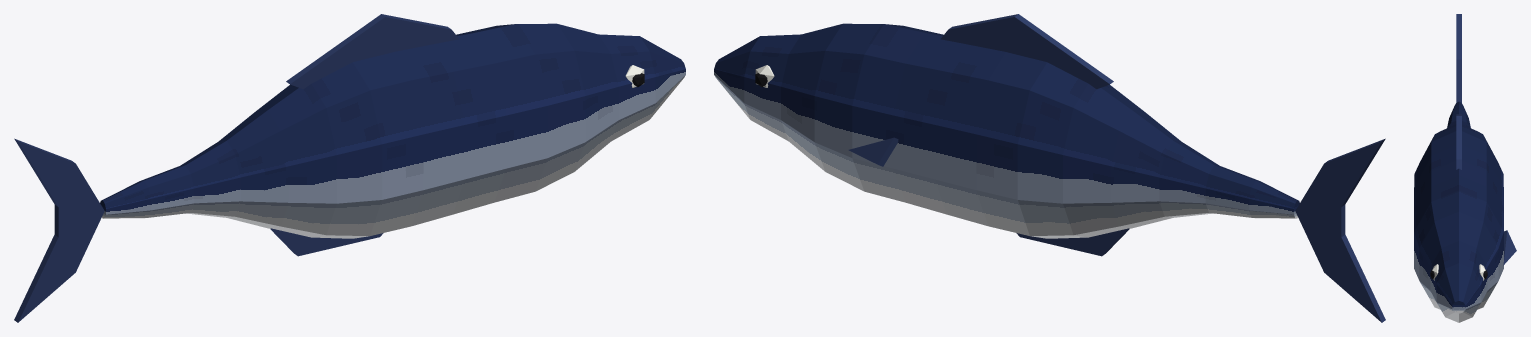
File: southern_bluefin_tuna.glb
3 renders of one model, left to right at view 1: azimuth 30°, elevation 25°; view 2: azimuth 150°, elevation 25°; view 3: azimuth 270°, elevation 25°, orthographic. The views are drawn at different scales.
Visible parts, largest first — view 1: fish_southern_bluefin_tuna; view 2: fish_southern_bluefin_tuna; view 3: fish_southern_bluefin_tuna.
Part boxes in pixels (left/top/right/bottom): fish_southern_bluefin_tuna: left=14, top=14, right=685, bottom=322; fish_southern_bluefin_tuna: left=714, top=14, right=1385, bottom=322; fish_southern_bluefin_tuna: left=1414, top=14, right=1516, bottom=322.
Size of the model in its own units: 1.15 by 0.3617 by 0.2178.
4 materials, 1 textured.
